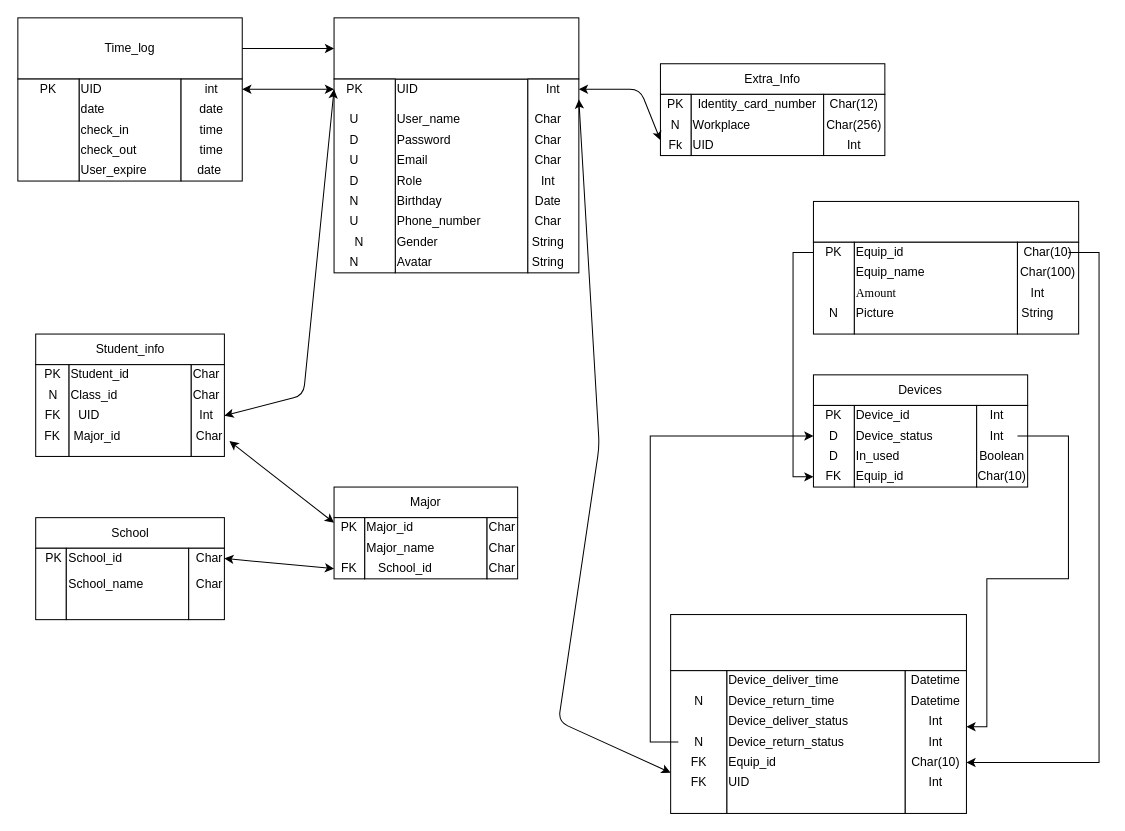
The diagram is 1125 pixels wide and 831 high, and some of its shapes have lost their labels. The shapes that lost their labels are listed below. From the top down, each one's box as (x1, y1, x2, y2) in pixels, then its label:
(333, 17, 579, 79): User
(812, 200, 1079, 242): Equipment
(670, 614, 966, 671): Rent_info
